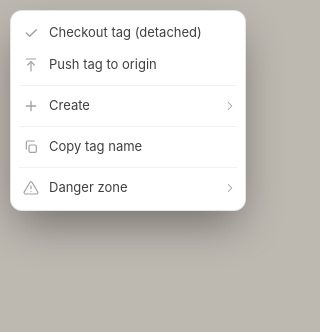
Test case: TagContextMenu › offers checkout / push / create / copy for a tag, with delete tucked under Danger zone
Check: the menu item "Checkout tag (detached)" is shown, box [11, 17, 245, 49]
Check: the menu item "Push tag to origin" is shown, box [11, 49, 245, 81]
Step 1. Click the menu item "Danger zone" → (128, 188), box [11, 172, 245, 204]
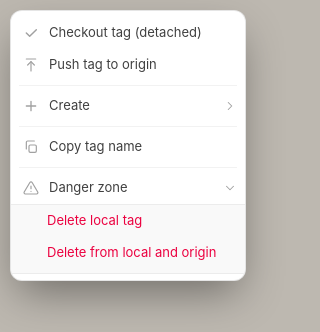
Check: the menu item "Delete local tag" is shown, box [11, 205, 245, 237]
Check: the menu item "Delete from local and origin" is shown, box [11, 237, 245, 269]
Step 2. Click the menu item "Create" → (128, 106), box [11, 90, 245, 122]
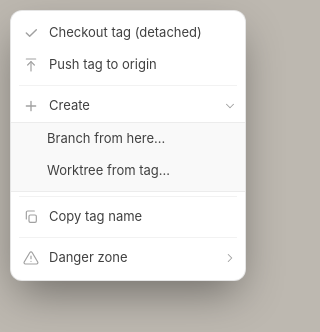
Check: the menu item "Branch from here…" is shown, box [11, 123, 245, 155]
Check: the menu item "Worktree from tag…" is shown, box [11, 155, 245, 187]
